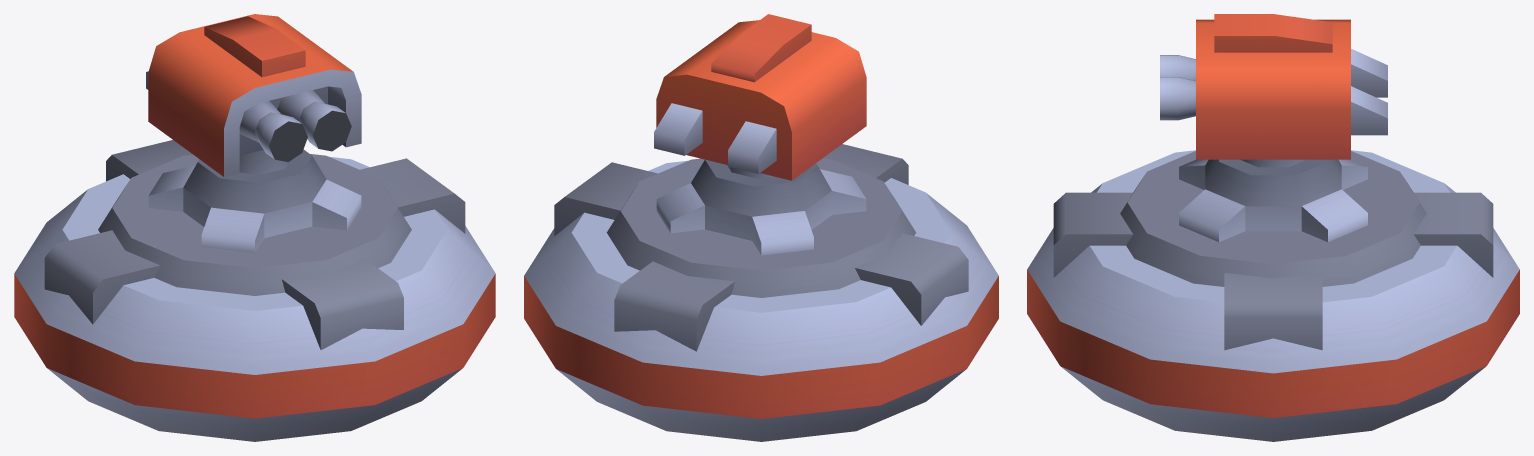
The model's file is kenney-tower-defense-enemy-ufo-a-weapon.glb.
3 renders of one model, left to right at view 1: azimuth 30°, elevation 25°; view 2: azimuth 150°, elevation 25°; view 3: azimuth 270°, elevation 25°, orthographic. The views are drawn at different scales.
Parts seen in each view (by area): view 1: enemy-ufo-a-weapon; view 2: enemy-ufo-a-weapon; view 3: enemy-ufo-a-weapon.
Boxes of the visible parts, left/top/right/bottom form: enemy-ufo-a-weapon: left=14, top=14, right=495, bottom=441; enemy-ufo-a-weapon: left=524, top=14, right=998, bottom=441; enemy-ufo-a-weapon: left=1027, top=14, right=1519, bottom=441.
Bounding box in the file's own units: 1 × 0.7475 × 1.
1 material, 1 textured.
